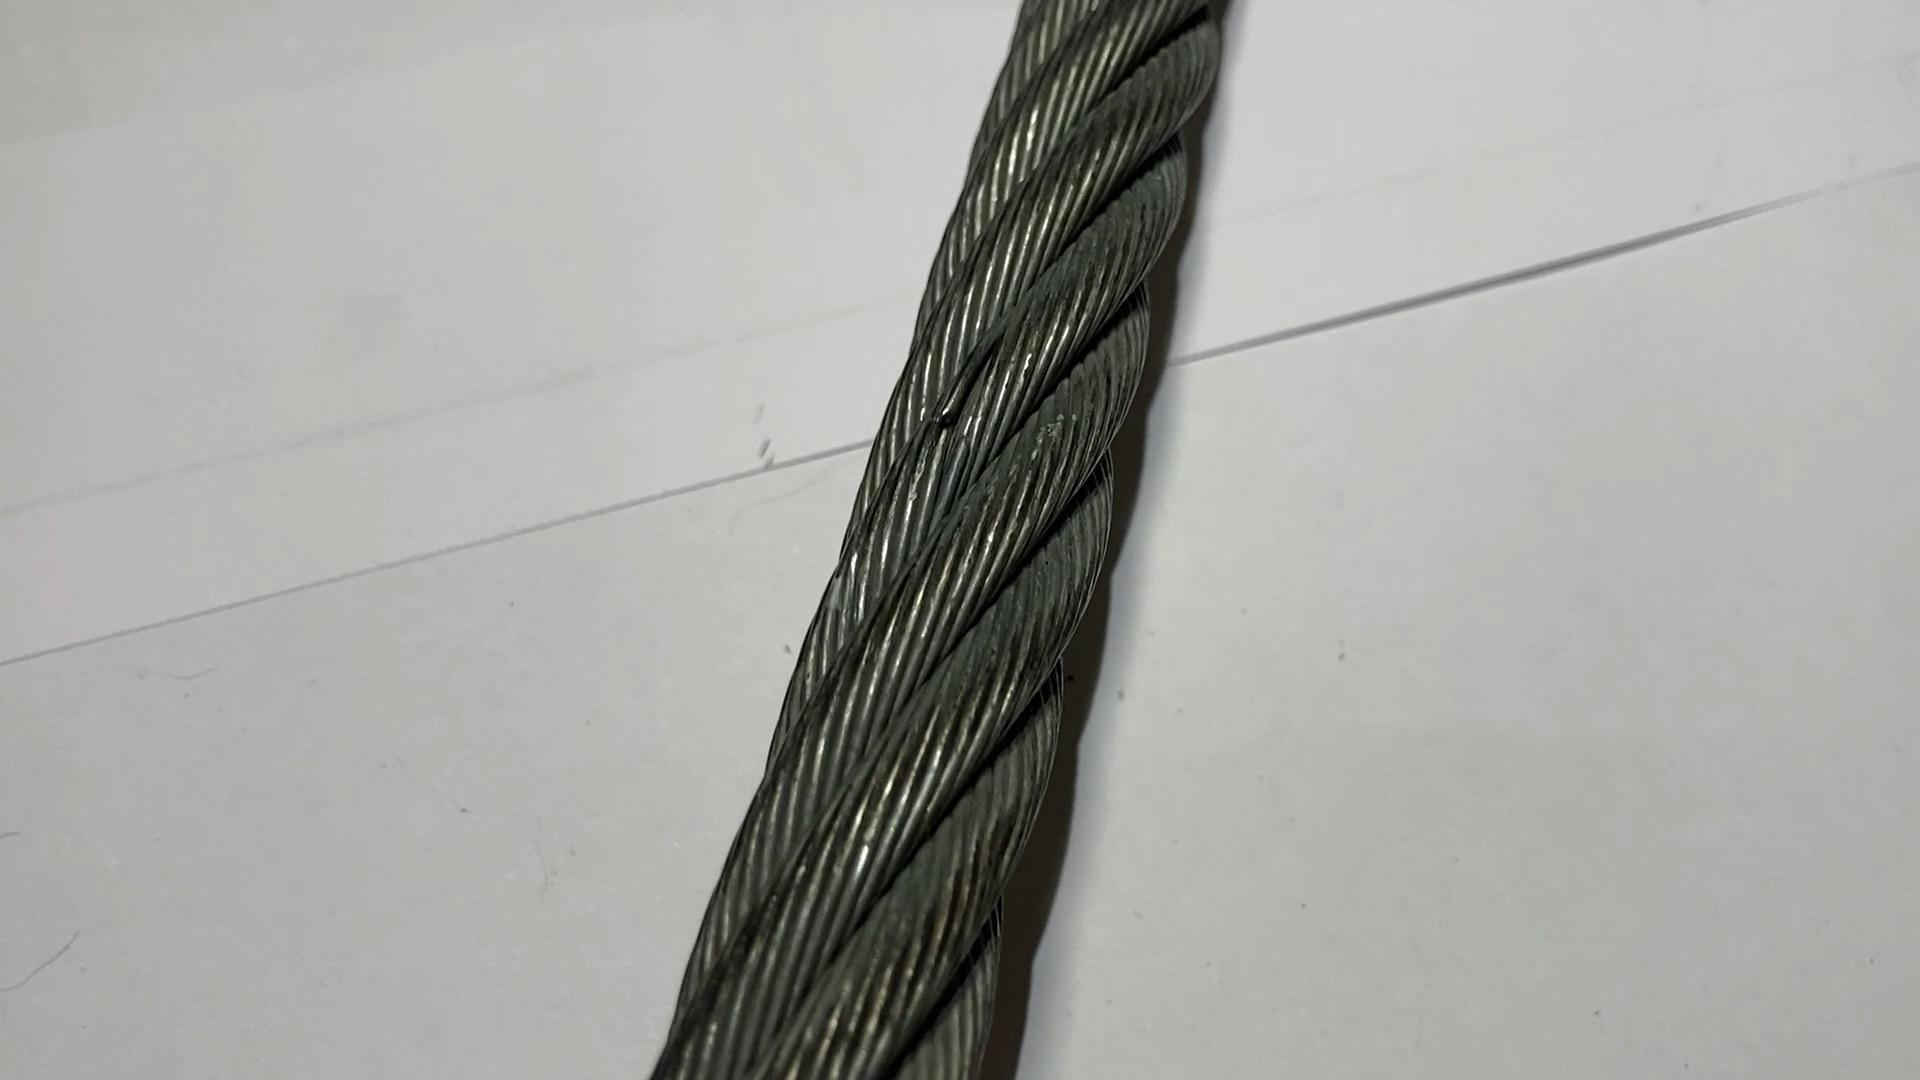break: (931, 340, 1001, 436)
